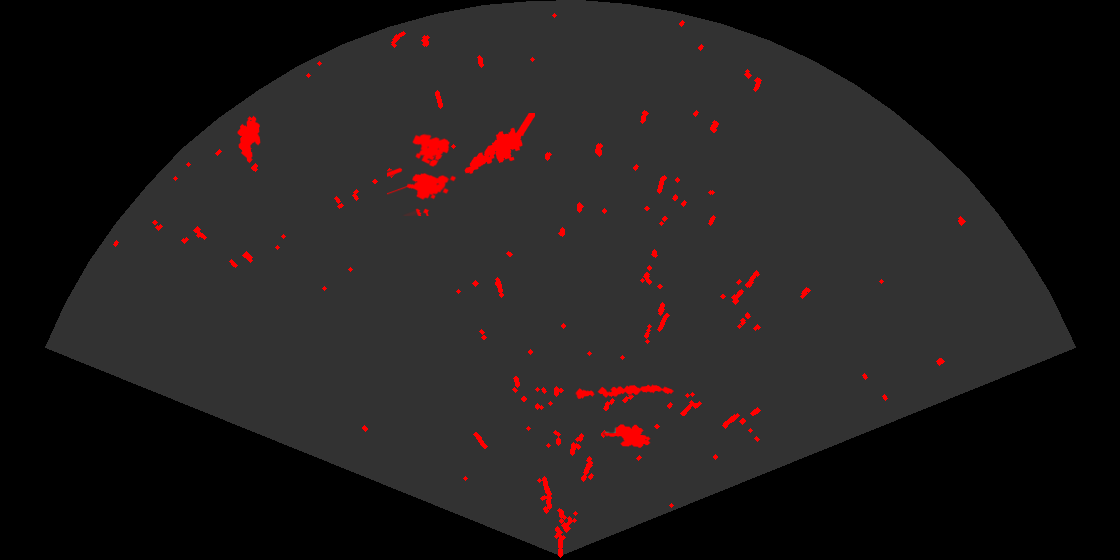AUV: (236, 114, 262, 165), (602, 423, 652, 449)
cage: (387, 132, 458, 216)
chain: (573, 383, 674, 401)
frogman: (463, 113, 535, 176)
